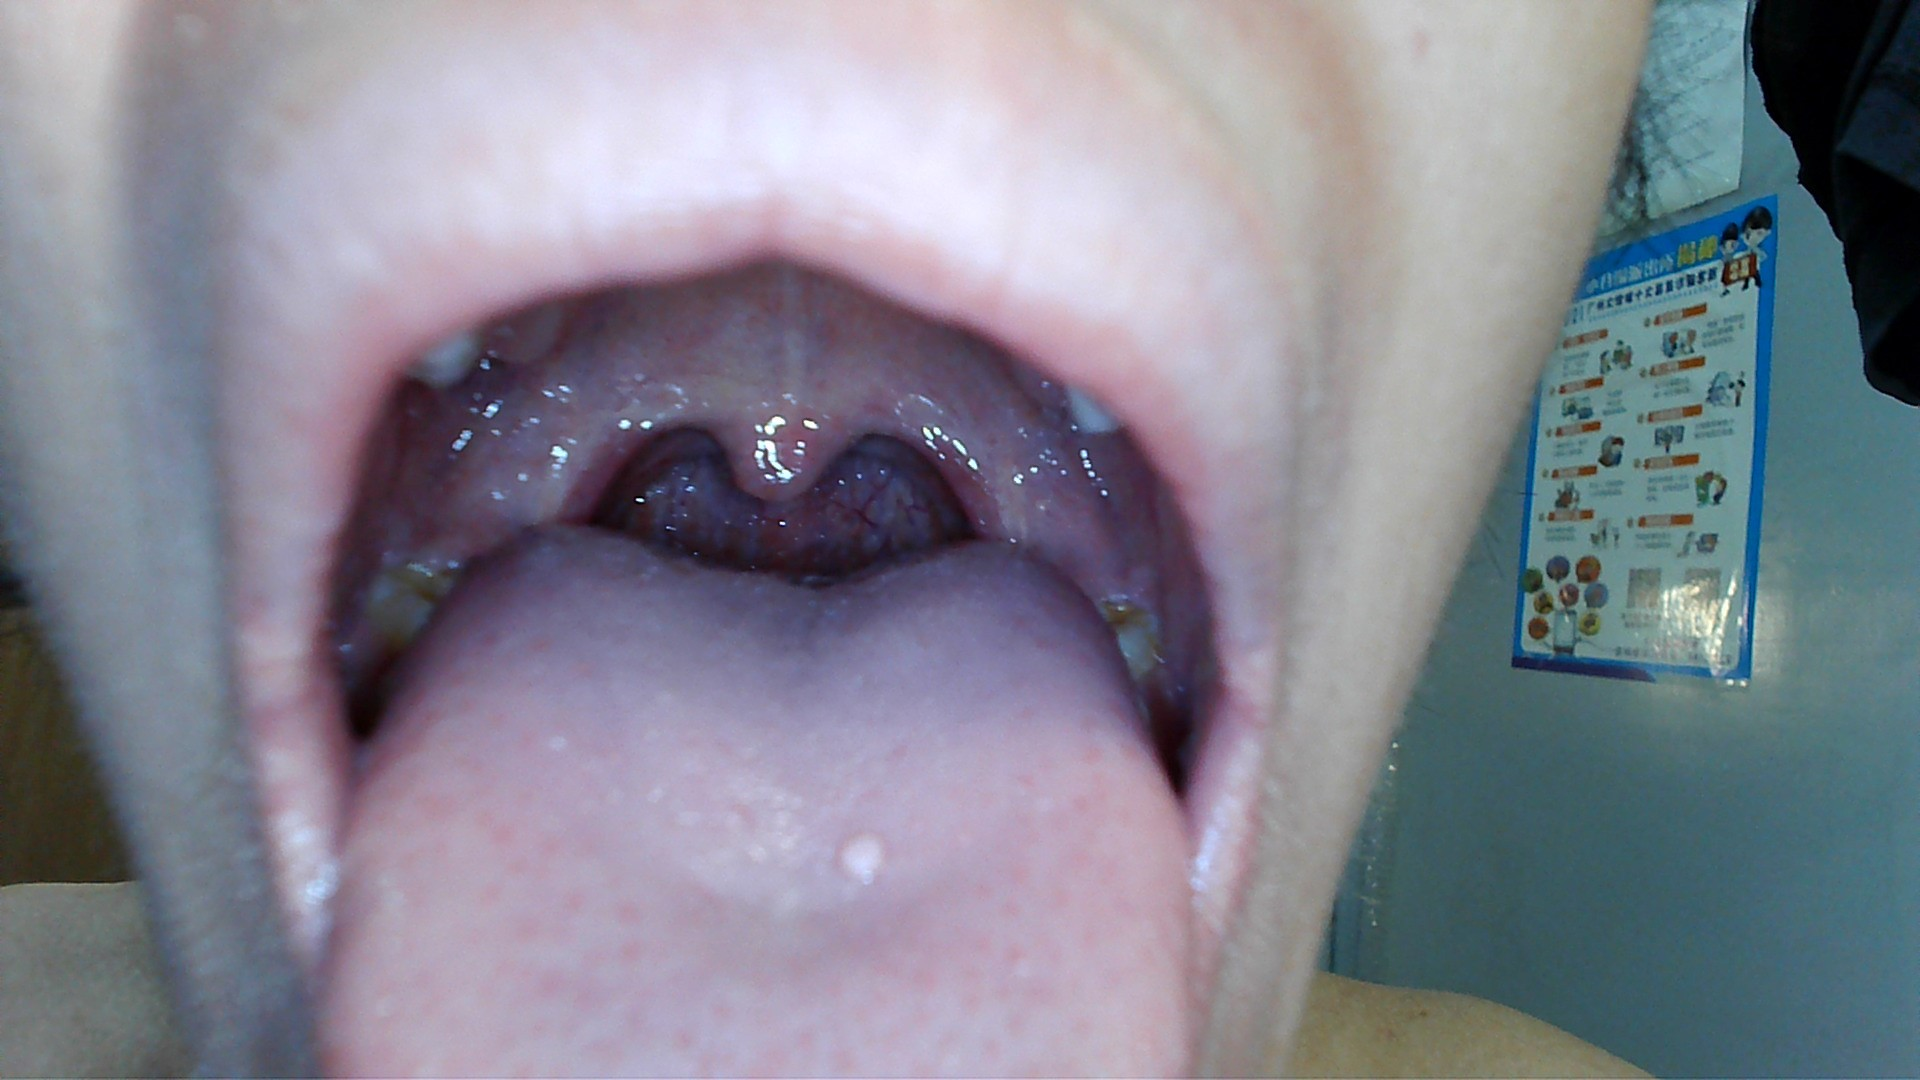throat: (910, 425, 1010, 541), (546, 400, 646, 516)
